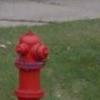Hydrant: (10, 19, 70, 100)
